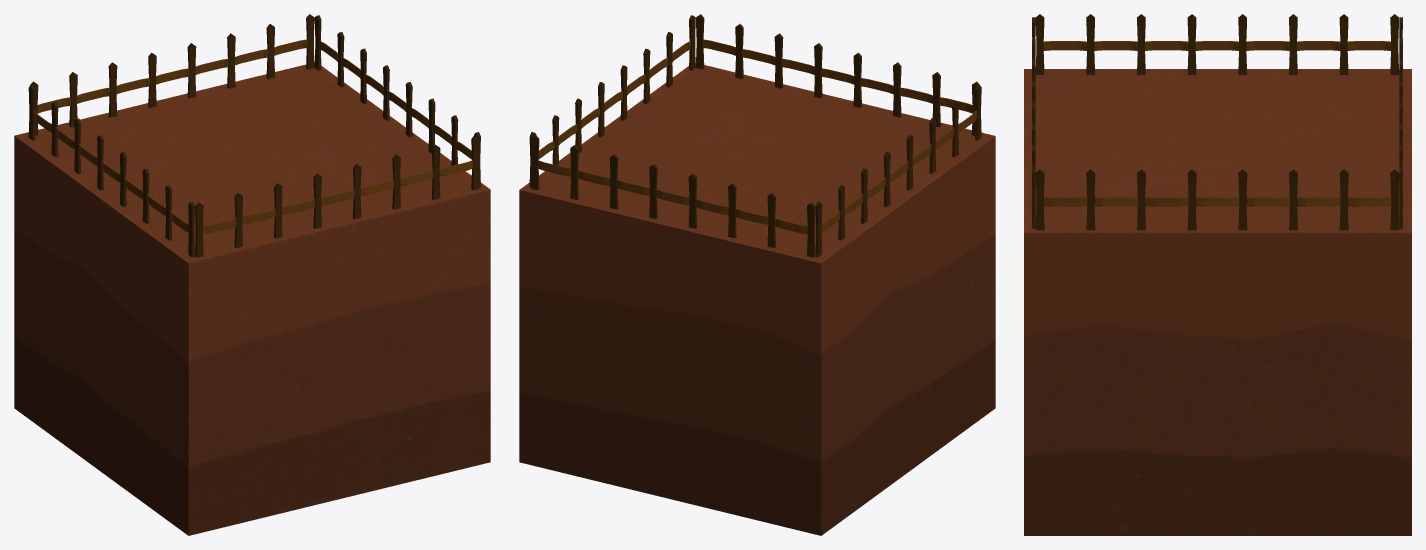
Rendered from Concepts_5.fbx.
The picture shows the model from 3 angles, left to right: view 1: azimuth 30°, elevation 25°; view 2: azimuth 150°, elevation 25°; view 3: azimuth 270°, elevation 25°; orthographic projection. The views are drawn at different scales.
Visible parts, largest first — view 1: Cube.077, Cube.014; view 2: Cube.077, Cube.014; view 3: Cube.077, Cube.014.
Boxes of the visible parts, <box> form: Cube.077: <box>14,62,490,535</box>; Cube.014: <box>28,14,480,257</box>; Cube.077: <box>519,63,995,535</box>; Cube.014: <box>529,14,981,257</box>; Cube.077: <box>1024,69,1411,535</box>; Cube.014: <box>1032,14,1402,230</box>.
Bounding box in the file's own units: 301 × 311 × 301.
